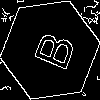B: (25, 25, 77, 73)
